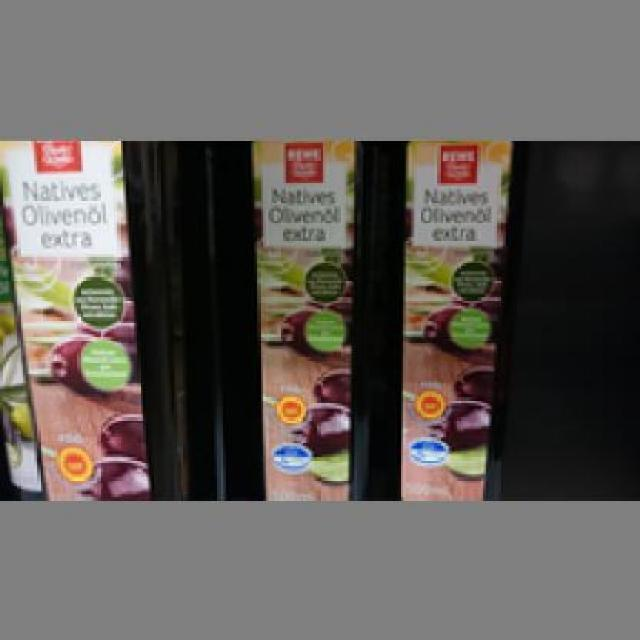Oil: (0, 137, 200, 494), (226, 140, 377, 497), (383, 134, 526, 497)
